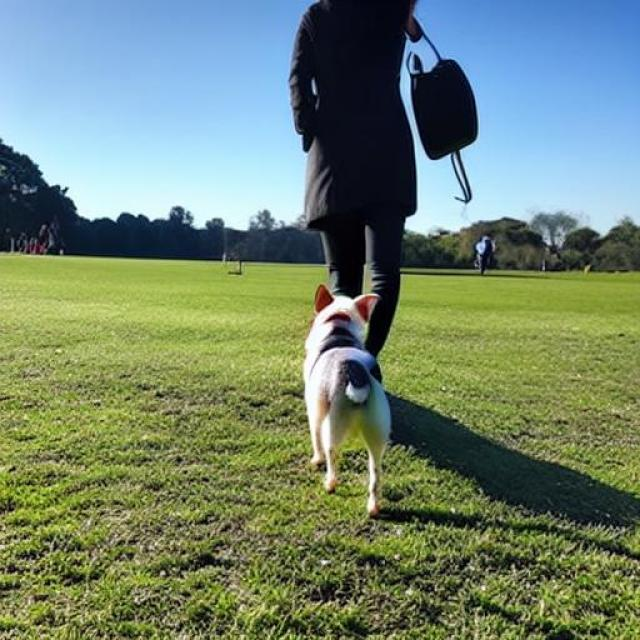Unleashed_Dog: (303, 218, 404, 516)
